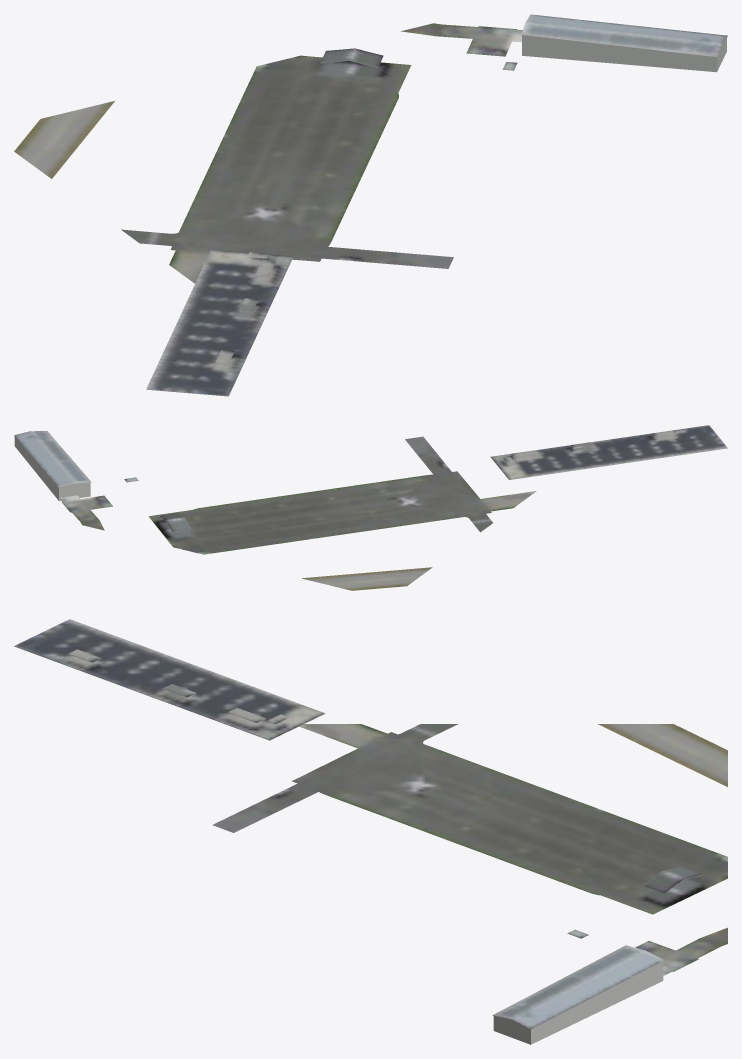
The model's file is LSMP_0_-1.glb.
3 renders of one model, top to bottom at view 1: azimuth 30°, elevation 25°; view 2: azimuth 150°, elevation 25°; view 3: azimuth 270°, elevation 25°, orthographic. The views are drawn at different scales.
Parts seen in each view (by area): view 1: pavement_LSMP_pavement_5120_2375, building_7fec9a206afb30d8, building_a9214ab7b4b04bc1, building_02e6ac7eed2e307e, building_ce73f5bf1ed070db; view 2: pavement_LSMP_pavement_5120_2375, building_7fec9a206afb30d8, building_a9214ab7b4b04bc1, building_02e6ac7eed2e307e, building_ce73f5bf1ed070db; view 3: pavement_LSMP_pavement_5120_2375, building_7fec9a206afb30d8, building_a9214ab7b4b04bc1, building_02e6ac7eed2e307e, building_ce73f5bf1ed070db.
Boxes of the visible parts, x1,y1,x2,y2 form: pavement_LSMP_pavement_5120_2375: (14,23,522,283); building_7fec9a206afb30d8: (146,249,293,396); building_a9214ab7b4b04bc1: (502,14,727,70); building_02e6ac7eed2e307e: (522,35,726,72); building_ce73f5bf1ed070db: (320,48,383,67); pavement_LSMP_pavement_5120_2375: (59,436,536,590); building_7fec9a206afb30d8: (490,425,727,479); building_a9214ab7b4b04bc1: (14,431,138,487); building_02e6ac7eed2e307e: (14,437,90,501); building_ce73f5bf1ed070db: (159,513,191,531); pavement_LSMP_pavement_5120_2375: (212,724,727,975); building_7fec9a206afb30d8: (14,619,325,740); building_a9214ab7b4b04bc1: (492,929,664,1029); building_02e6ac7eed2e307e: (493,961,663,1044); building_ce73f5bf1ed070db: (642,866,703,893).
Bounding box in the file's own units: 492 × 19.2 × 373.
Materials: 3 (2 with a texture image).
